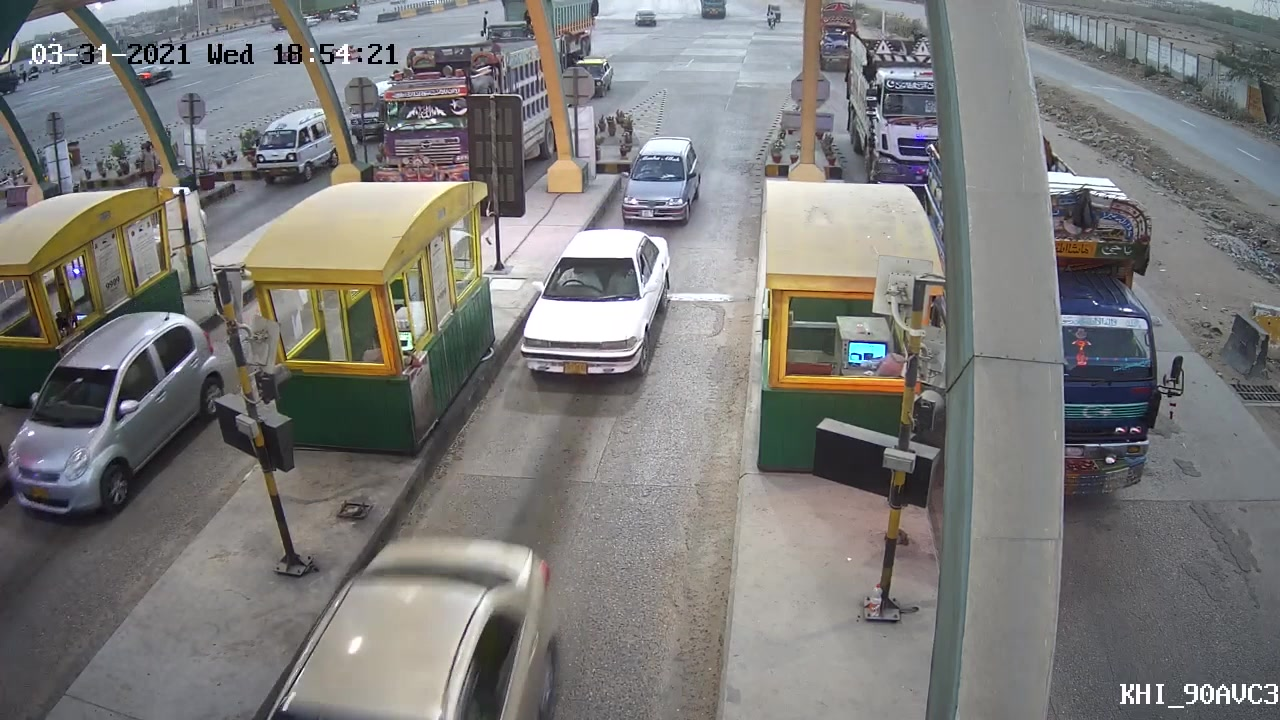F1: (521, 228, 679, 386), (615, 133, 708, 223)
